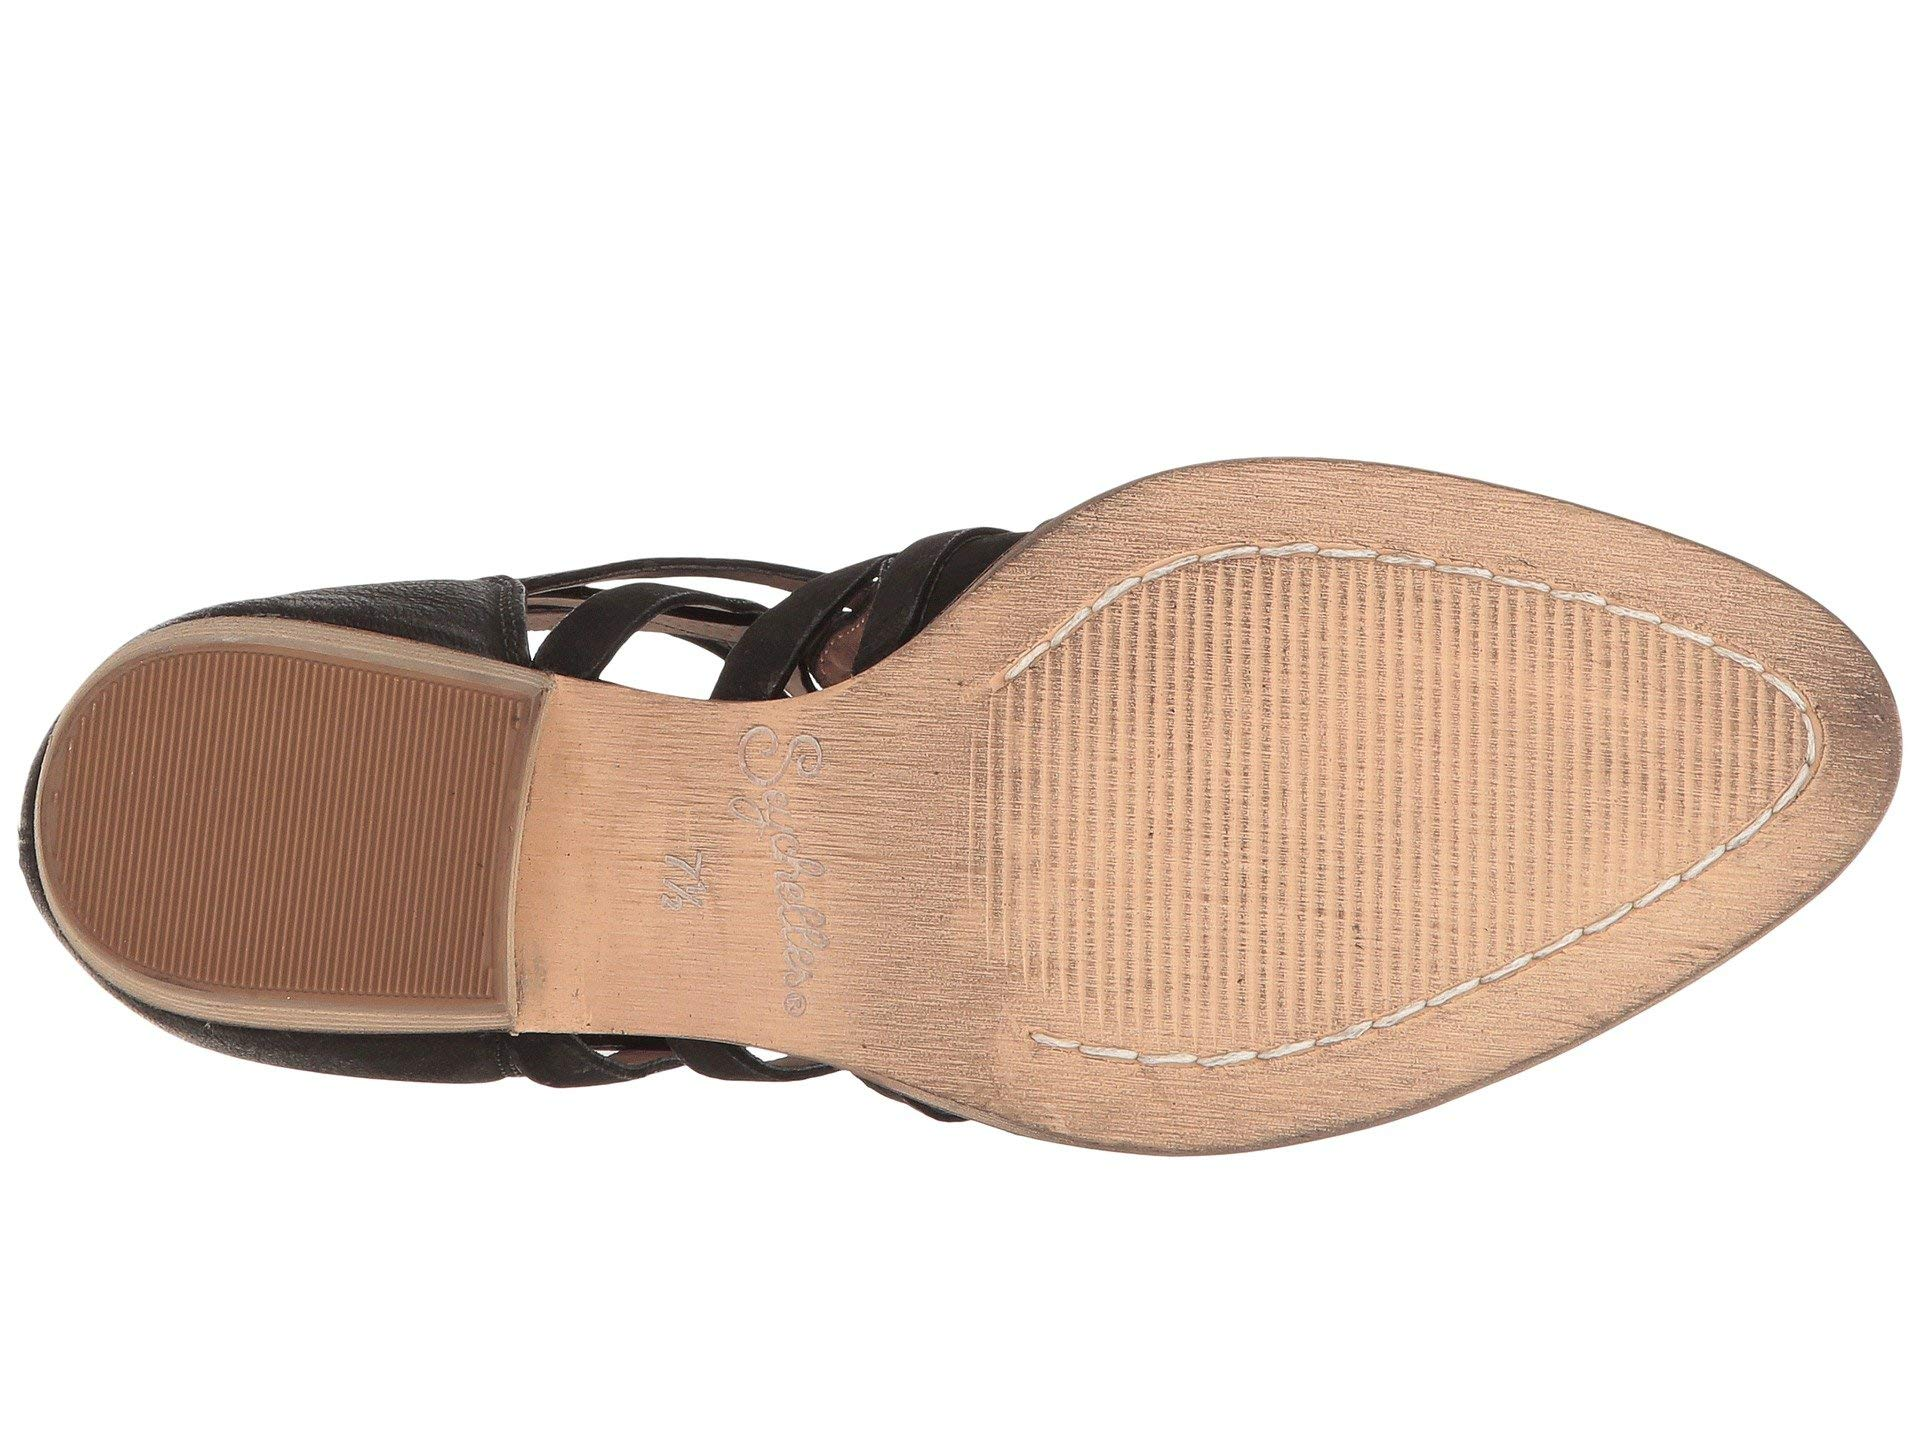line: (1070, 649, 1427, 967), (139, 682, 408, 986)
